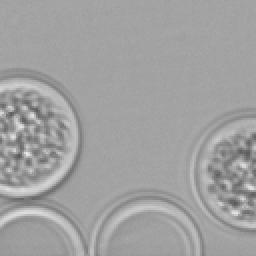picoshell: (0, 76, 78, 196), (188, 110, 254, 230), (88, 190, 202, 254), (0, 200, 86, 254)
